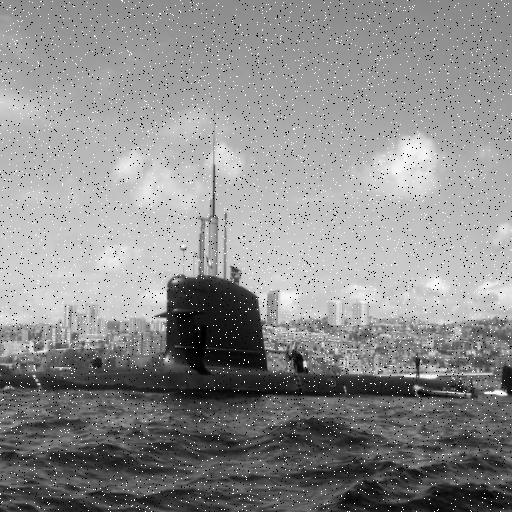submarine: (1, 104, 500, 391)
